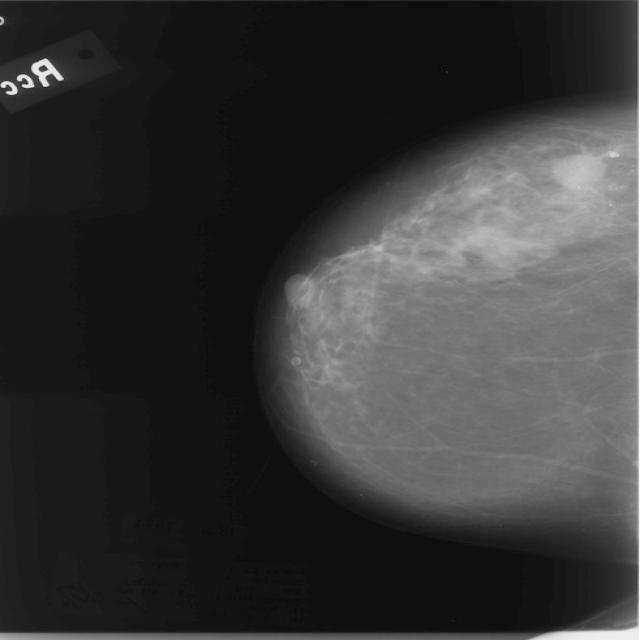tumour: (550, 152, 606, 188)
